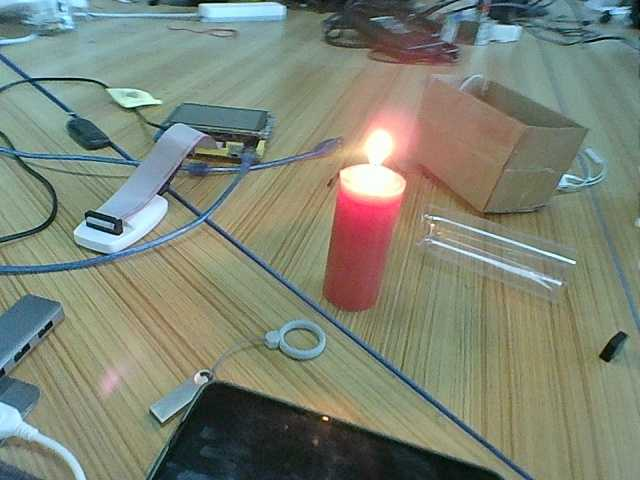candle: (312, 196, 422, 305)
fire: (350, 132, 406, 193)
